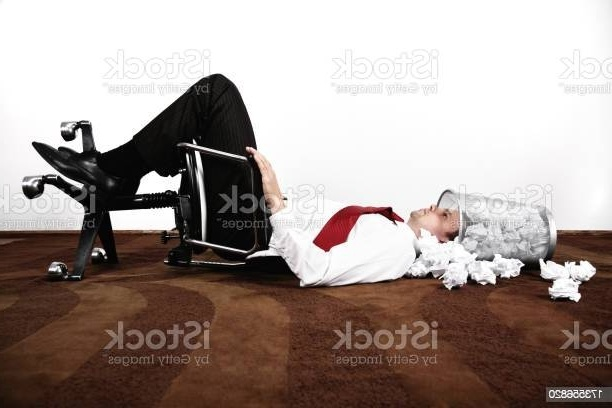fall: (6, 65, 574, 292)
